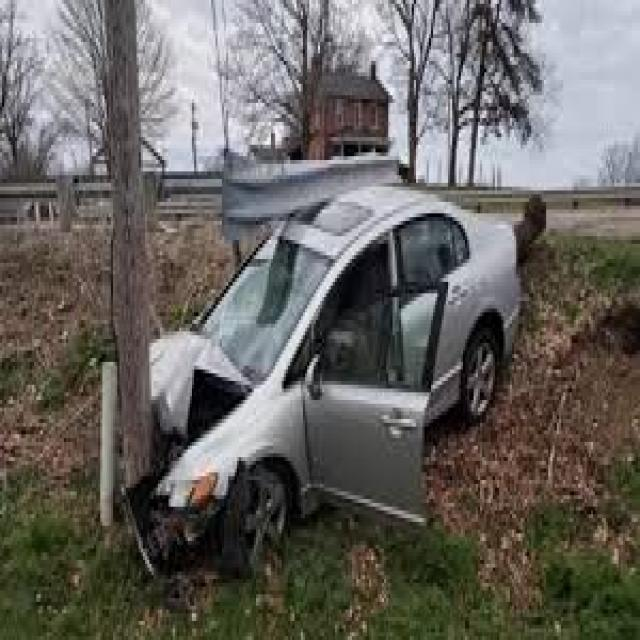accident: (120, 147, 524, 570)
